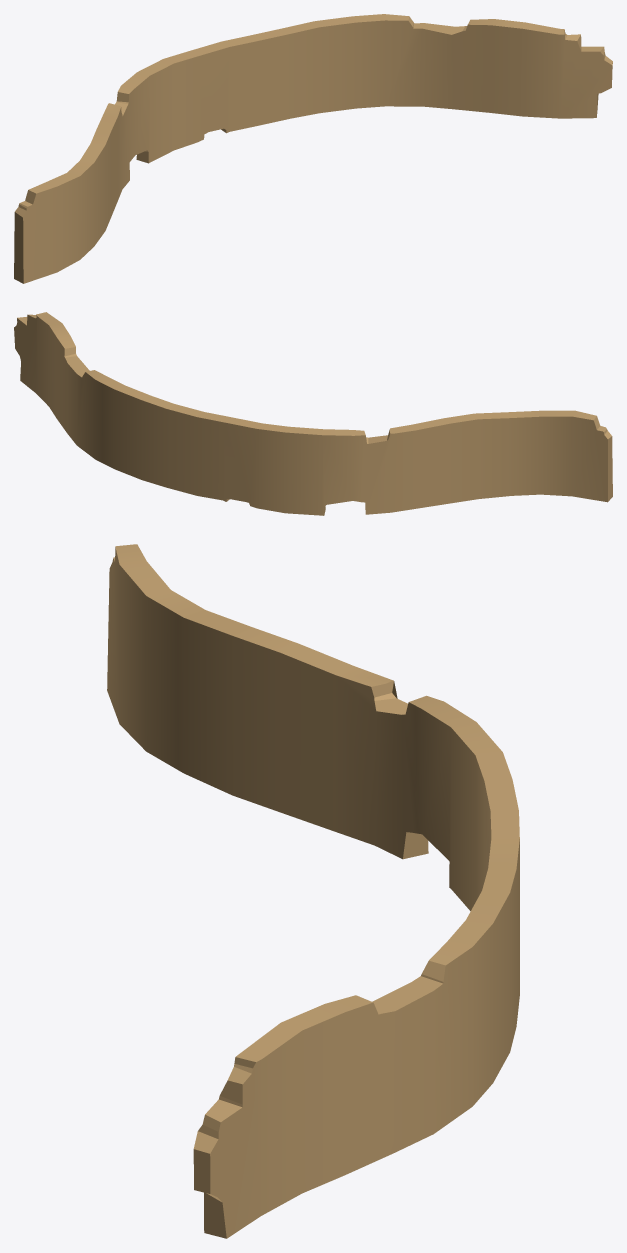
Rendered from Ruins_StoneWall_03_Curve.fbx.
The picture shows the model from 3 angles, top to bottom: view 1: azimuth 30°, elevation 25°; view 2: azimuth 150°, elevation 25°; view 3: azimuth 270°, elevation 25°; orthographic projection. The views are drawn at different scales.
Visible parts, largest first — view 1: StoneFence_Curve.001; view 2: StoneFence_Curve.001; view 3: StoneFence_Curve.001.
Part boxes in pixels (<box>): StoneFence_Curve.001: <box>14,14,612,283</box>; StoneFence_Curve.001: <box>14,312,612,515</box>; StoneFence_Curve.001: <box>107,544,519,1238</box>.
Size of the model in its own units: 794 by 108 by 247.
